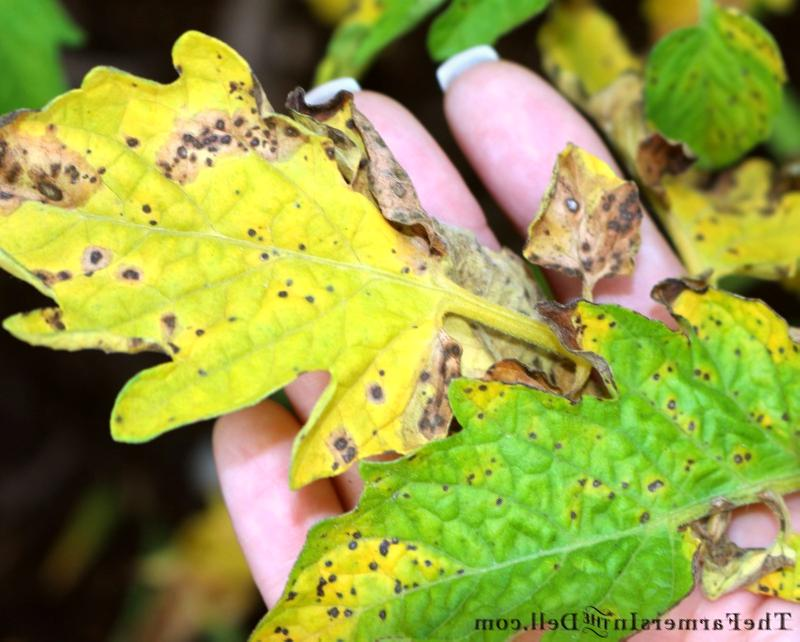Tomato Septoria leaf spot: (38, 42, 475, 451), (250, 311, 777, 642)
